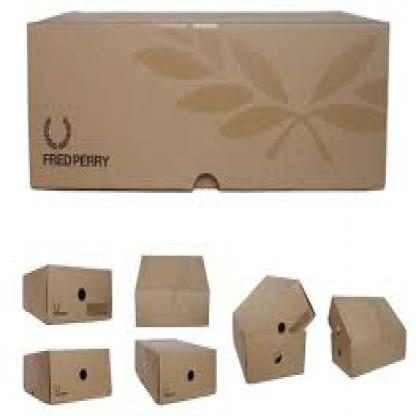CARDBOARD: (27, 8, 387, 188), (233, 273, 313, 381), (327, 295, 405, 375), (21, 262, 109, 323), (133, 253, 207, 325), (135, 336, 215, 401), (22, 345, 109, 403), (233, 273, 313, 334)
